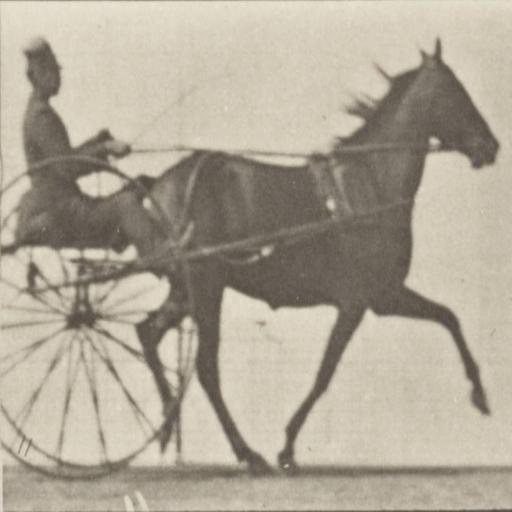horse: (121, 38, 503, 478)
